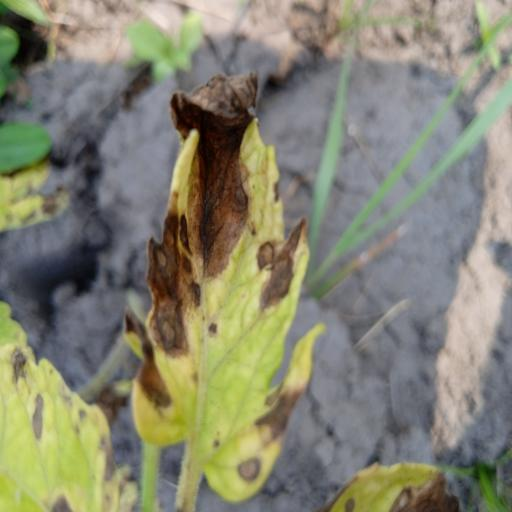Tomato_Brown_Spots: (127, 62, 323, 512)
